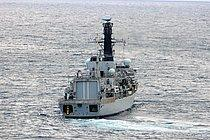MIL_Ship: (58, 14, 138, 118)
